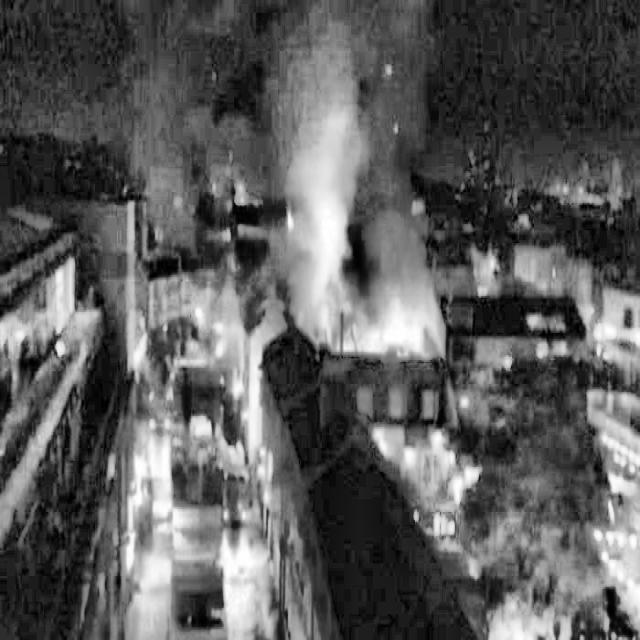fire: (261, 138, 494, 452)
